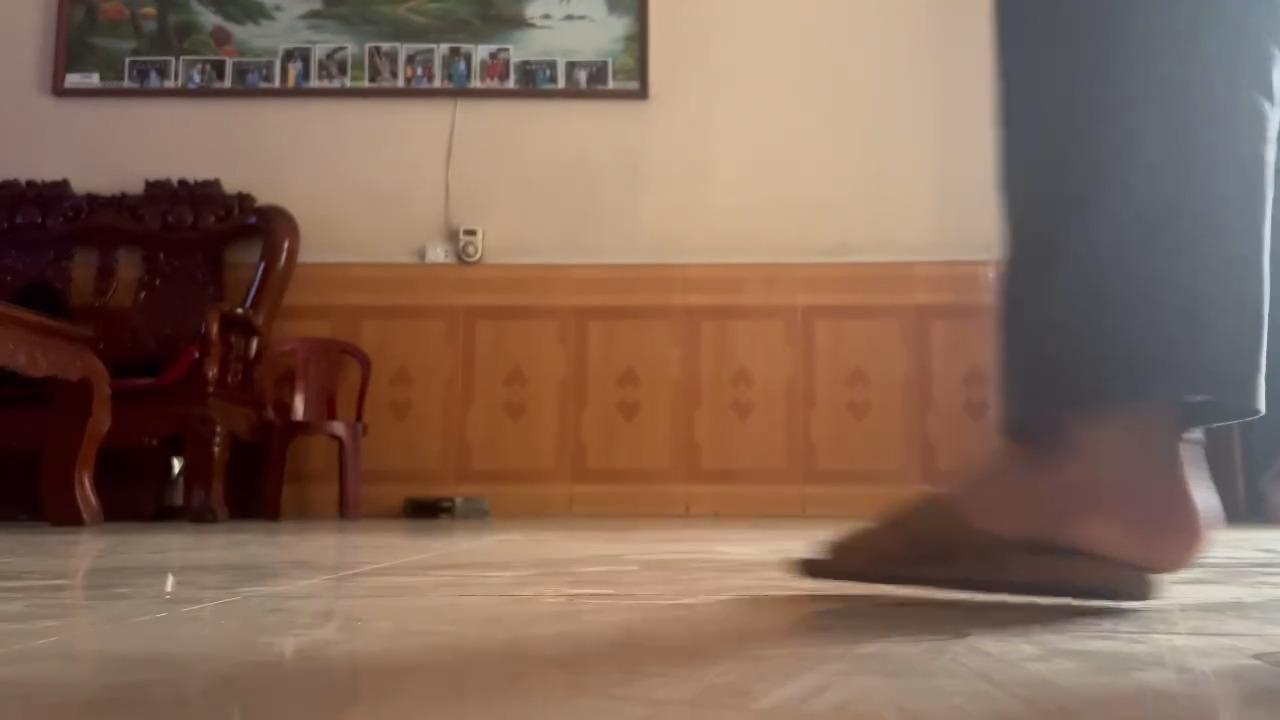no-boot: (785, 450, 1220, 606)
